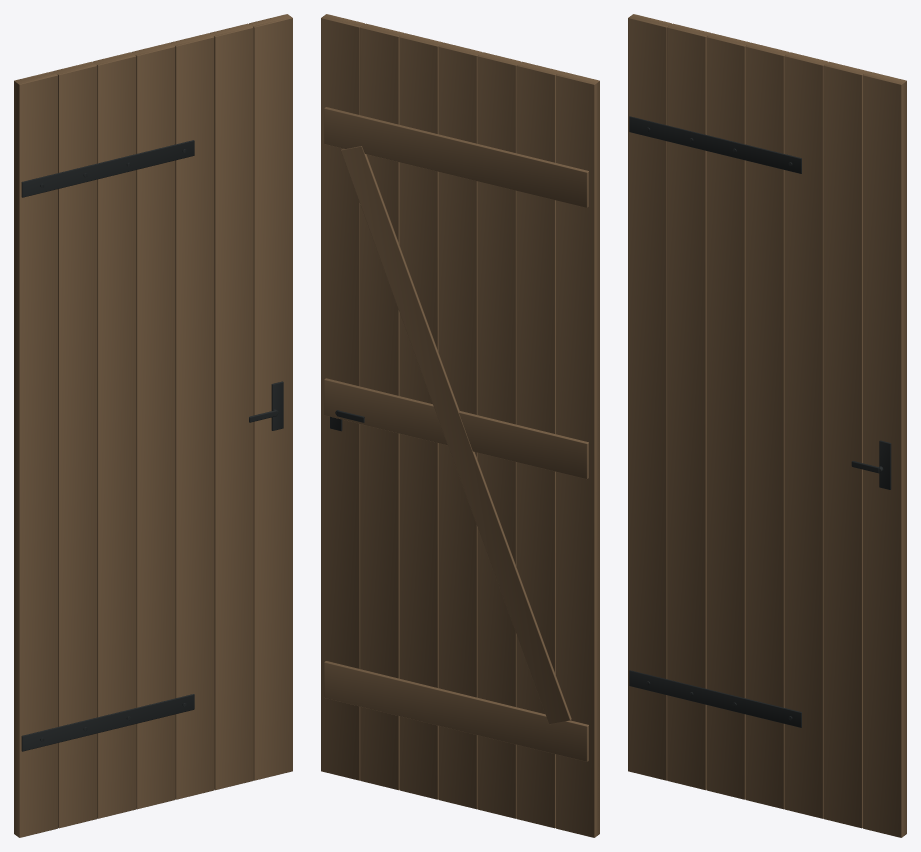
Rendered from rpg-mansion-door-ledged-01.glb.
3 views of the same model, side by side, from view 1: azimuth 30°, elevation 25°; view 2: azimuth 150°, elevation 25°; view 3: azimuth 330°, elevation 25° (orthographic).
Parts seen in each view (by area): view 1: rpg-mansion-door-ledged-01; view 2: rpg-mansion-door-ledged-01; view 3: rpg-mansion-door-ledged-01.
Boxes of the visible parts, <box> form: rpg-mansion-door-ledged-01: <box>14,14,292,837</box>; rpg-mansion-door-ledged-01: <box>321,14,599,837</box>; rpg-mansion-door-ledged-01: <box>628,14,906,837</box>.
Bounding box in the file's own units: 0.76 × 2 × 0.06.
